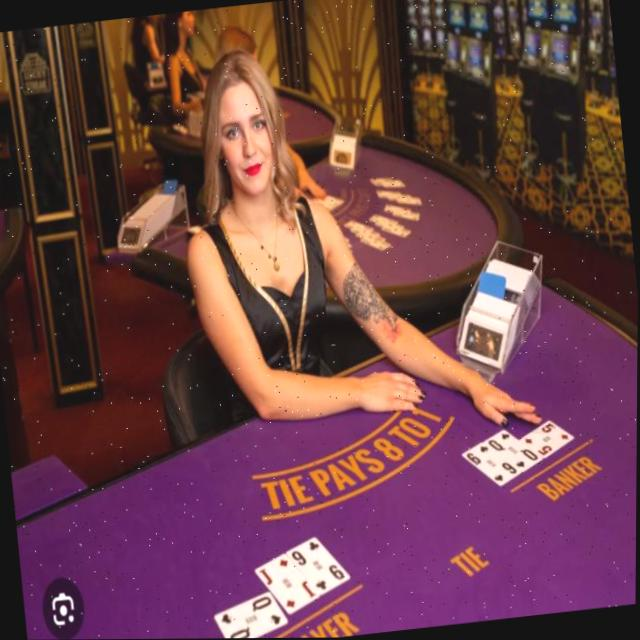Card-5: (520, 420, 574, 458)
Card-6: (462, 442, 521, 487)
Card-9: (287, 537, 351, 594)
Card-J: (255, 554, 321, 615)
Card-Q: (215, 591, 288, 639), (485, 429, 543, 471)
